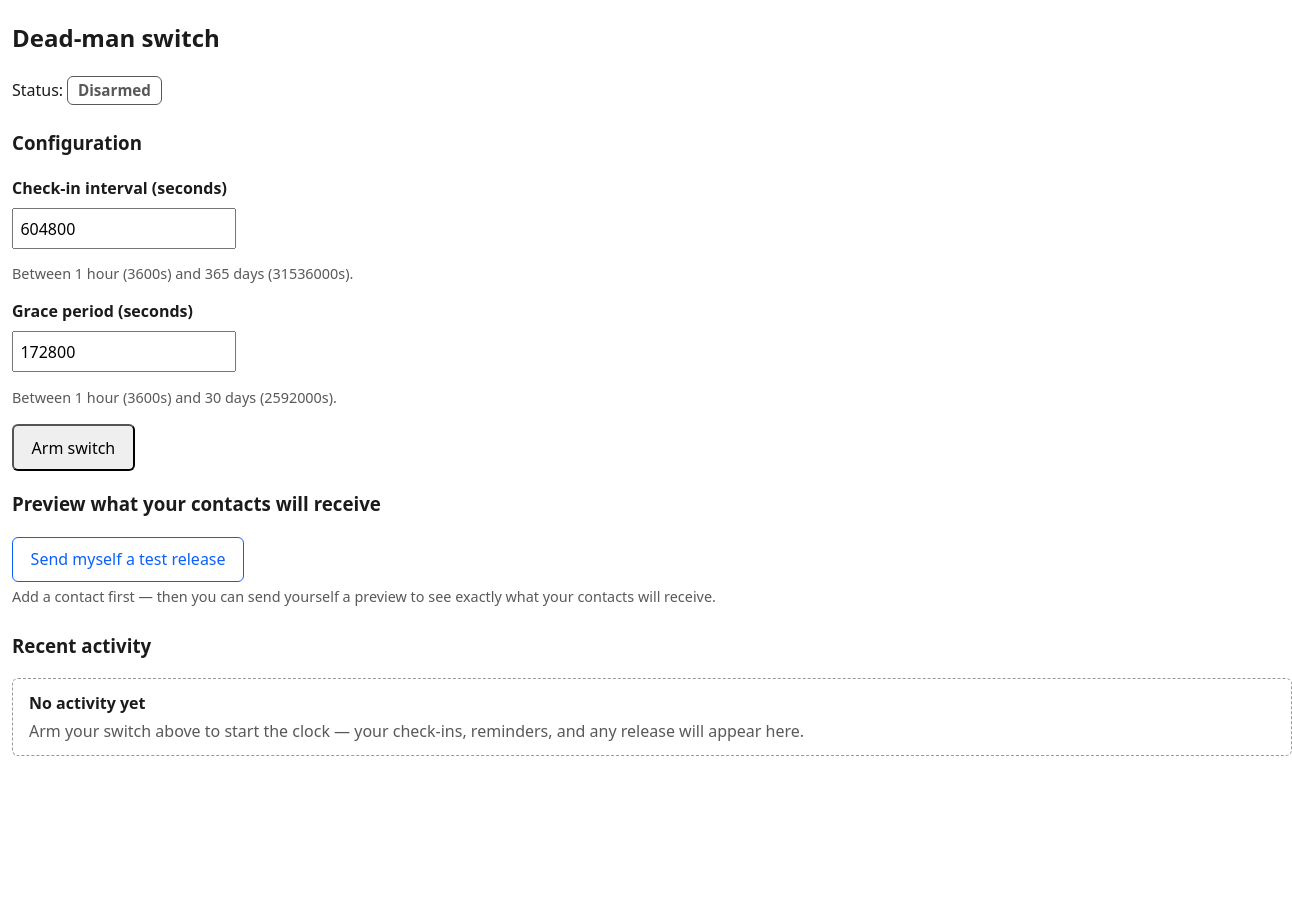
Test: DeadmanDashboard — view + arm + check-in (US1) › arms with a first-arm confirmation and shows the active badge + countdown
Expected: the text "Disarmed" is shown, [67, 76, 162, 105]
Click the button "Arm switch": (73, 448) [12, 424, 135, 471]
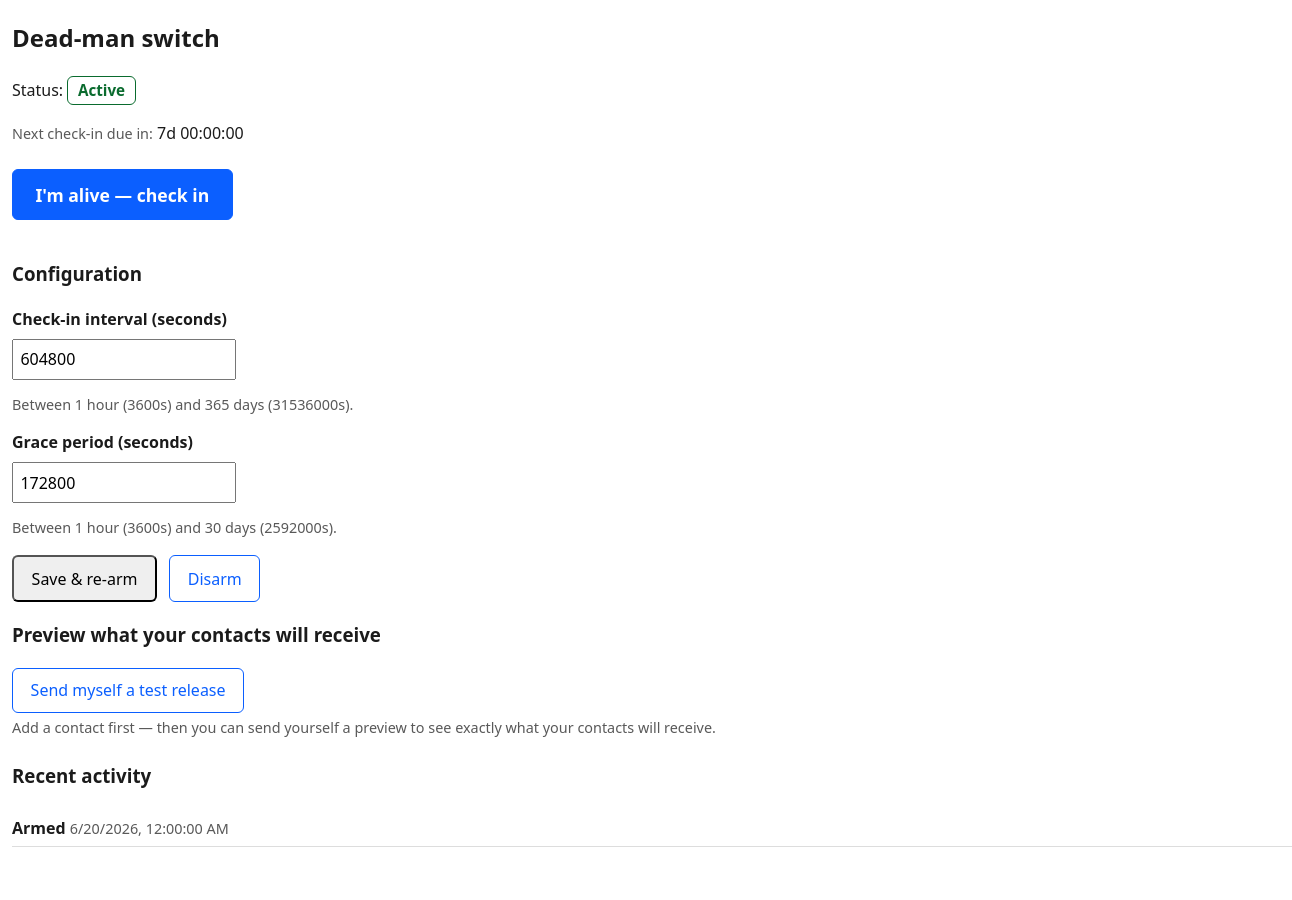
Result: the text with test id "deadman-state" reads "Active" at [78, 80, 125, 100]
Result: the text "7d 00:00:00" is shown at [157, 122, 244, 144]
